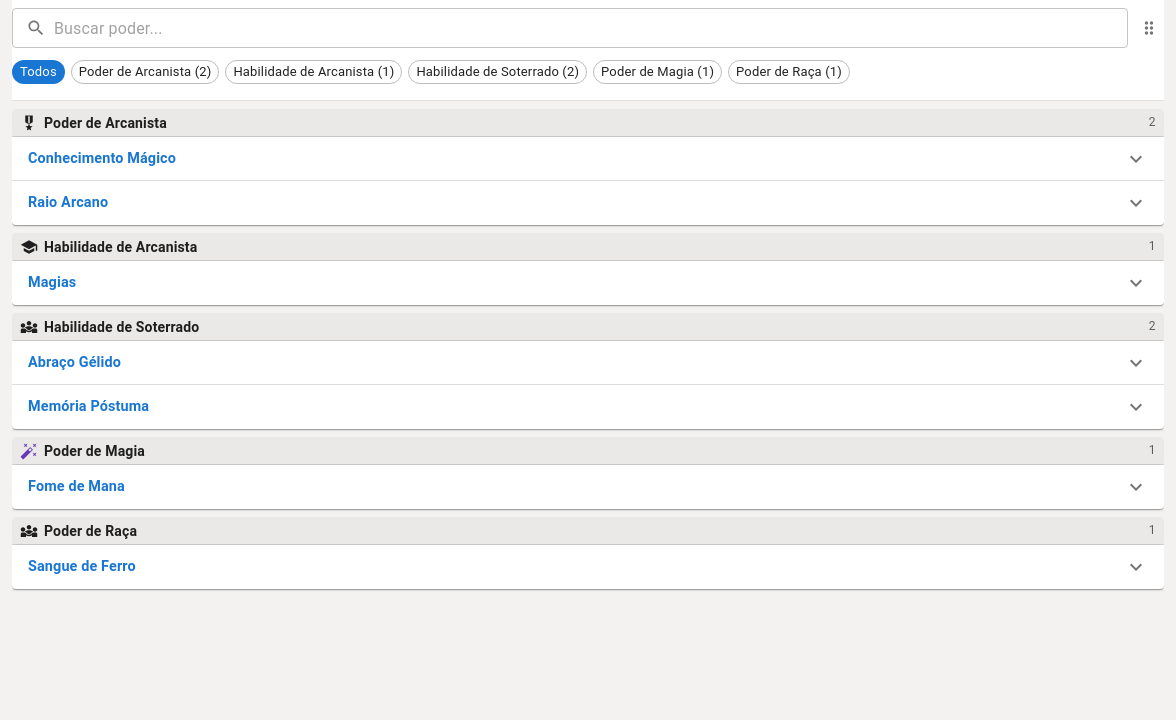
Scenario: PowersDisplay em modo reordenar › mantém os grupos e esconde busca e filtros
// Com busca ativa e um filtro aplicado...
Type "raio" into the field with placeholder "Buscar poder..." at (591, 28), box [54, 8, 1128, 48]
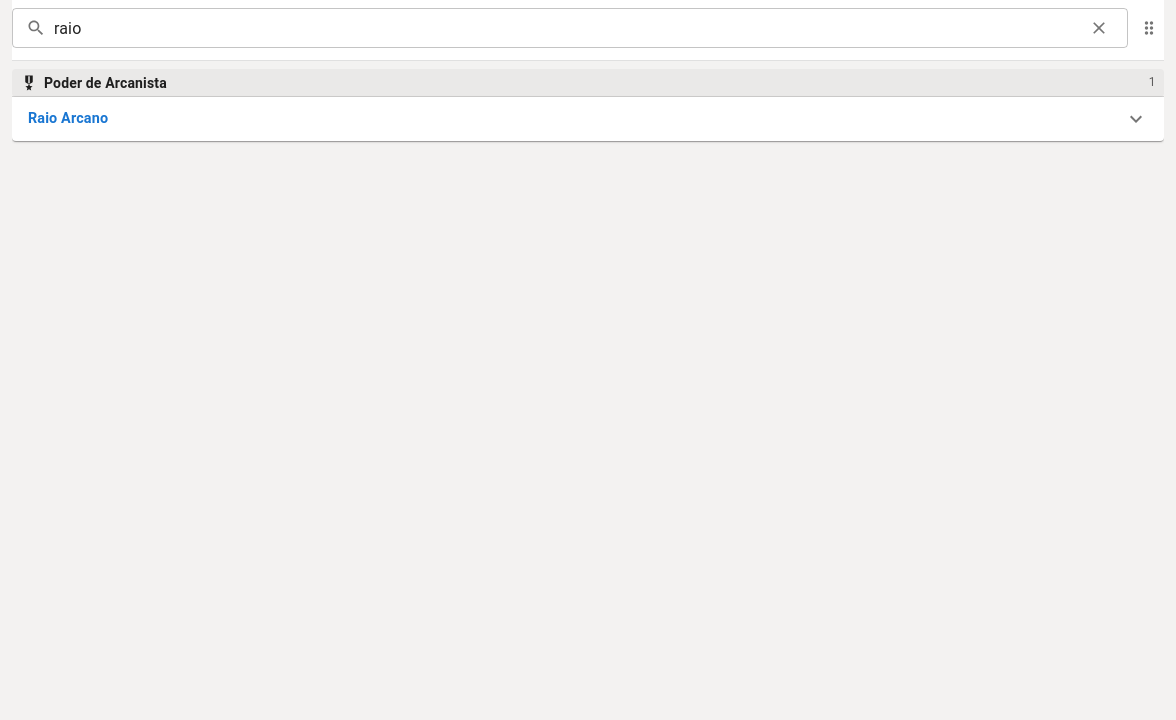
Expected: the button "Abraço Gélido" is gone
Click the button named "Reordenar poderes" at (1149, 28), box [1134, 13, 1164, 43]
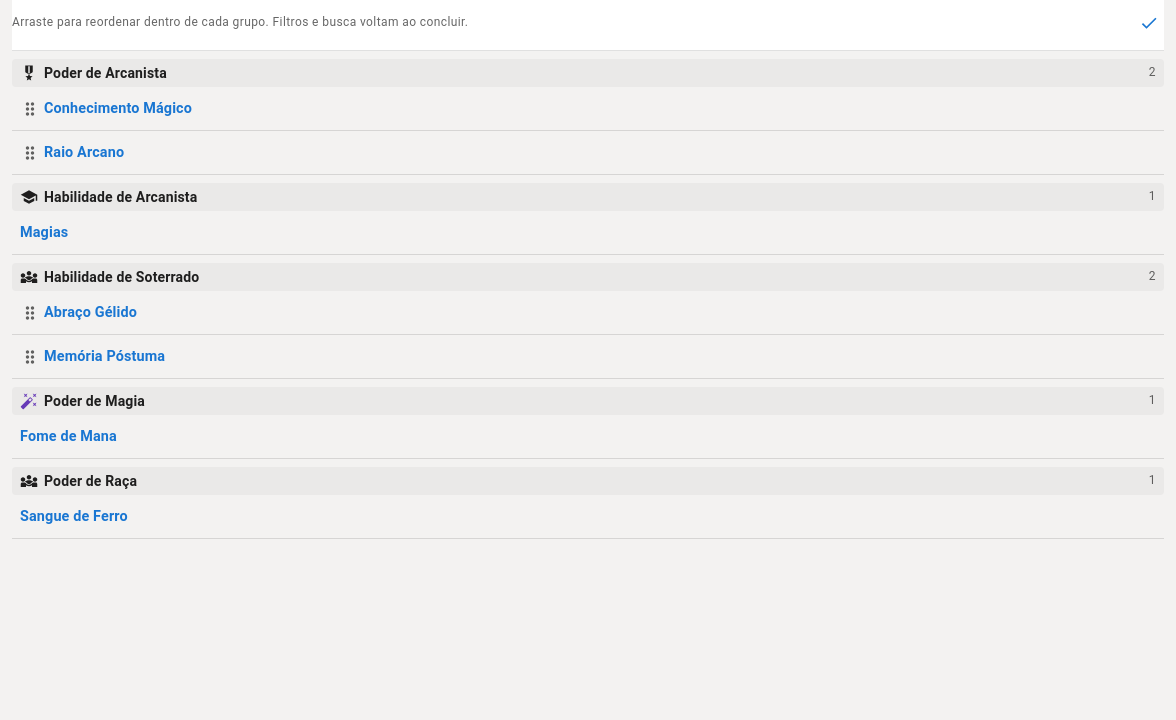
Expected: the field with placeholder "Buscar poder..." is not shown
Expected: the text "Abraço Gélido" is shown, [44, 304, 137, 321]
